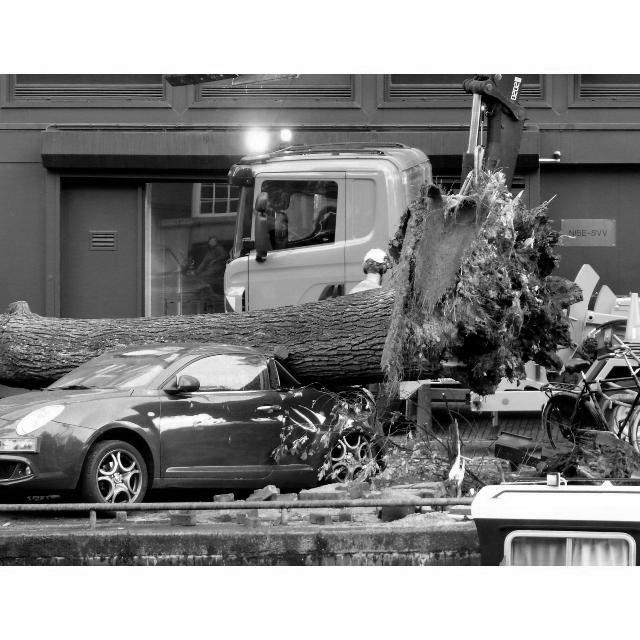doorouter-dent: (283, 393, 341, 487)
quaterpanel-dent: (327, 389, 390, 458)
